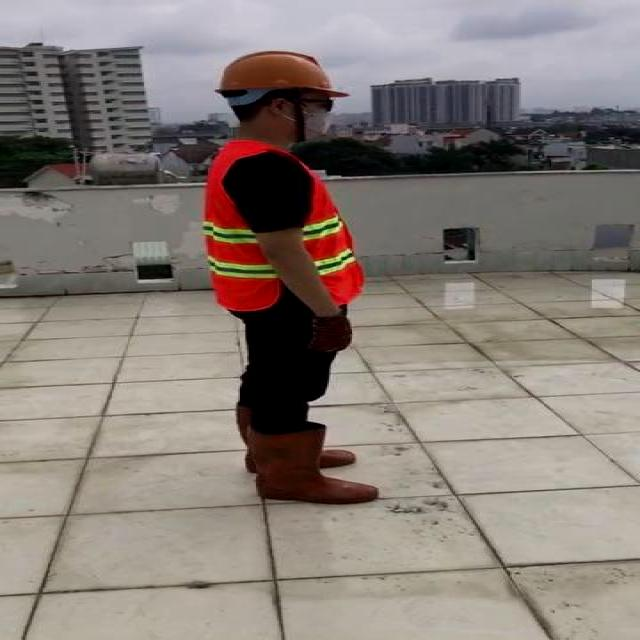boots: (249, 427, 380, 506), (235, 401, 357, 471)
face_mask: (276, 93, 344, 140)
hand_glove: (308, 314, 352, 352)
head_helmet: (213, 48, 339, 97)
person: (184, 45, 403, 512)
vest: (205, 141, 366, 313)
